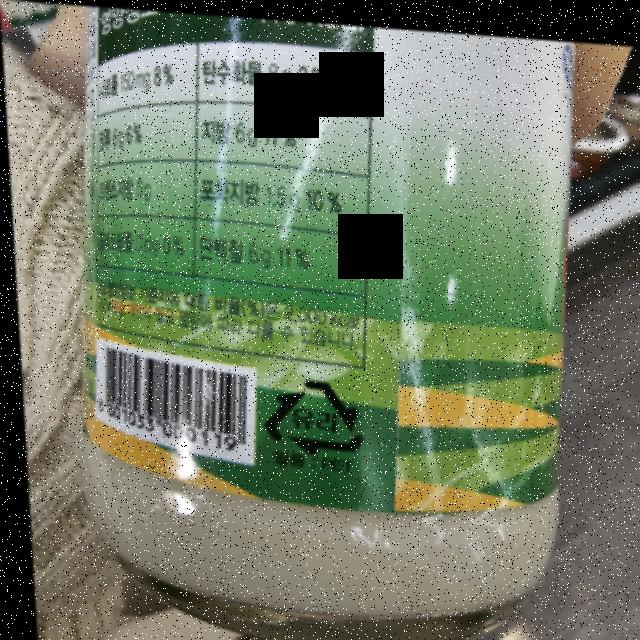Glass: (255, 370, 362, 454)
